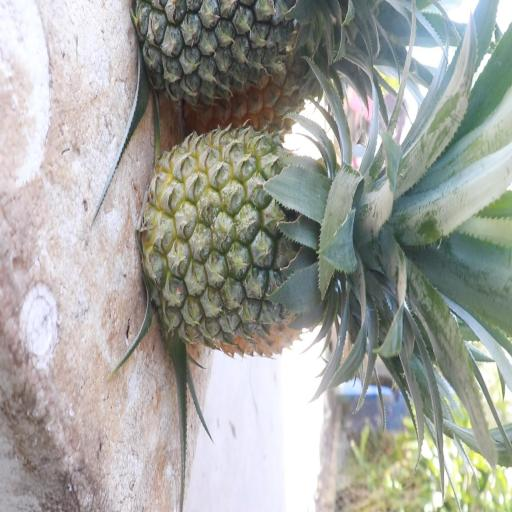------------------------------: (144, 132, 357, 352)
